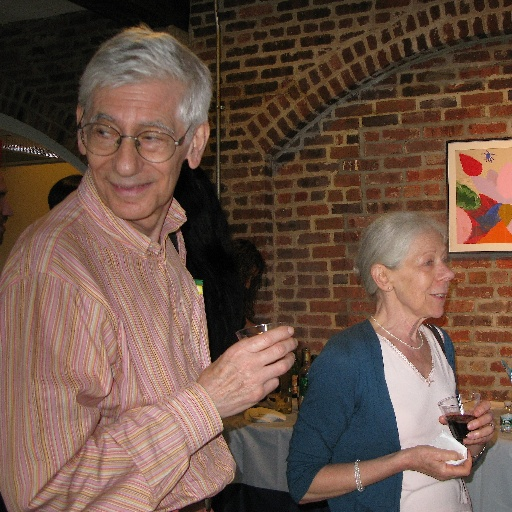hand: (197, 335, 304, 411), (438, 399, 496, 446), (400, 447, 473, 481)
